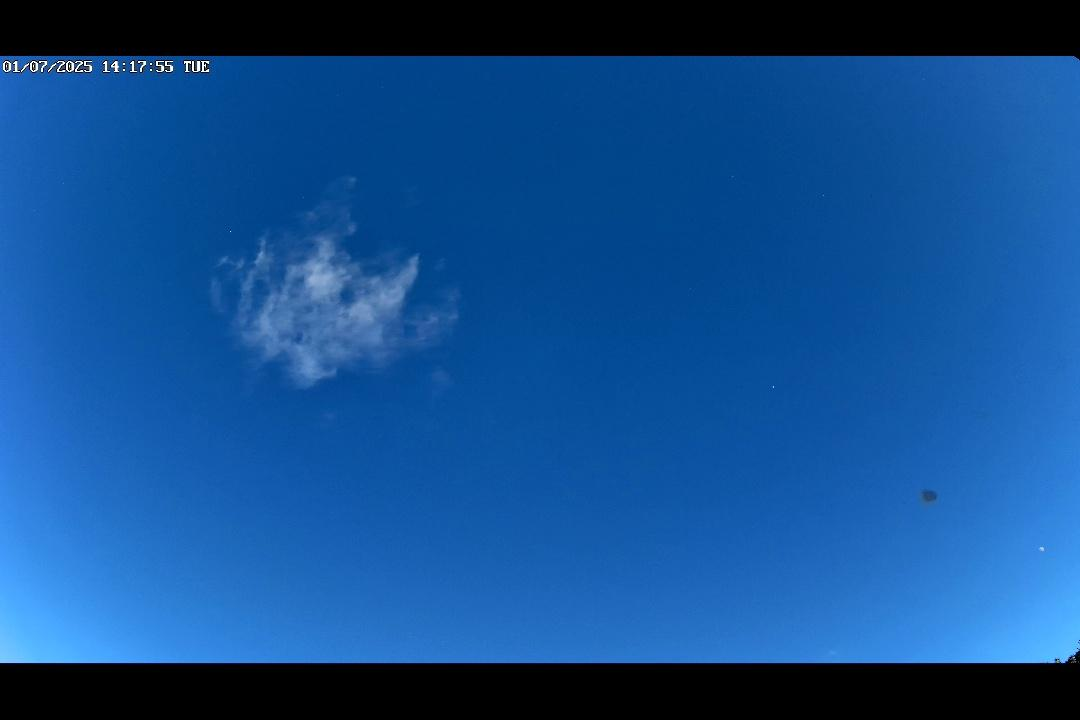WildLife: (913, 480, 949, 508), (58, 179, 70, 188), (727, 173, 739, 179), (820, 191, 828, 199), (769, 383, 778, 390), (31, 206, 39, 213), (688, 285, 694, 292), (228, 228, 234, 234), (300, 196, 306, 199)
